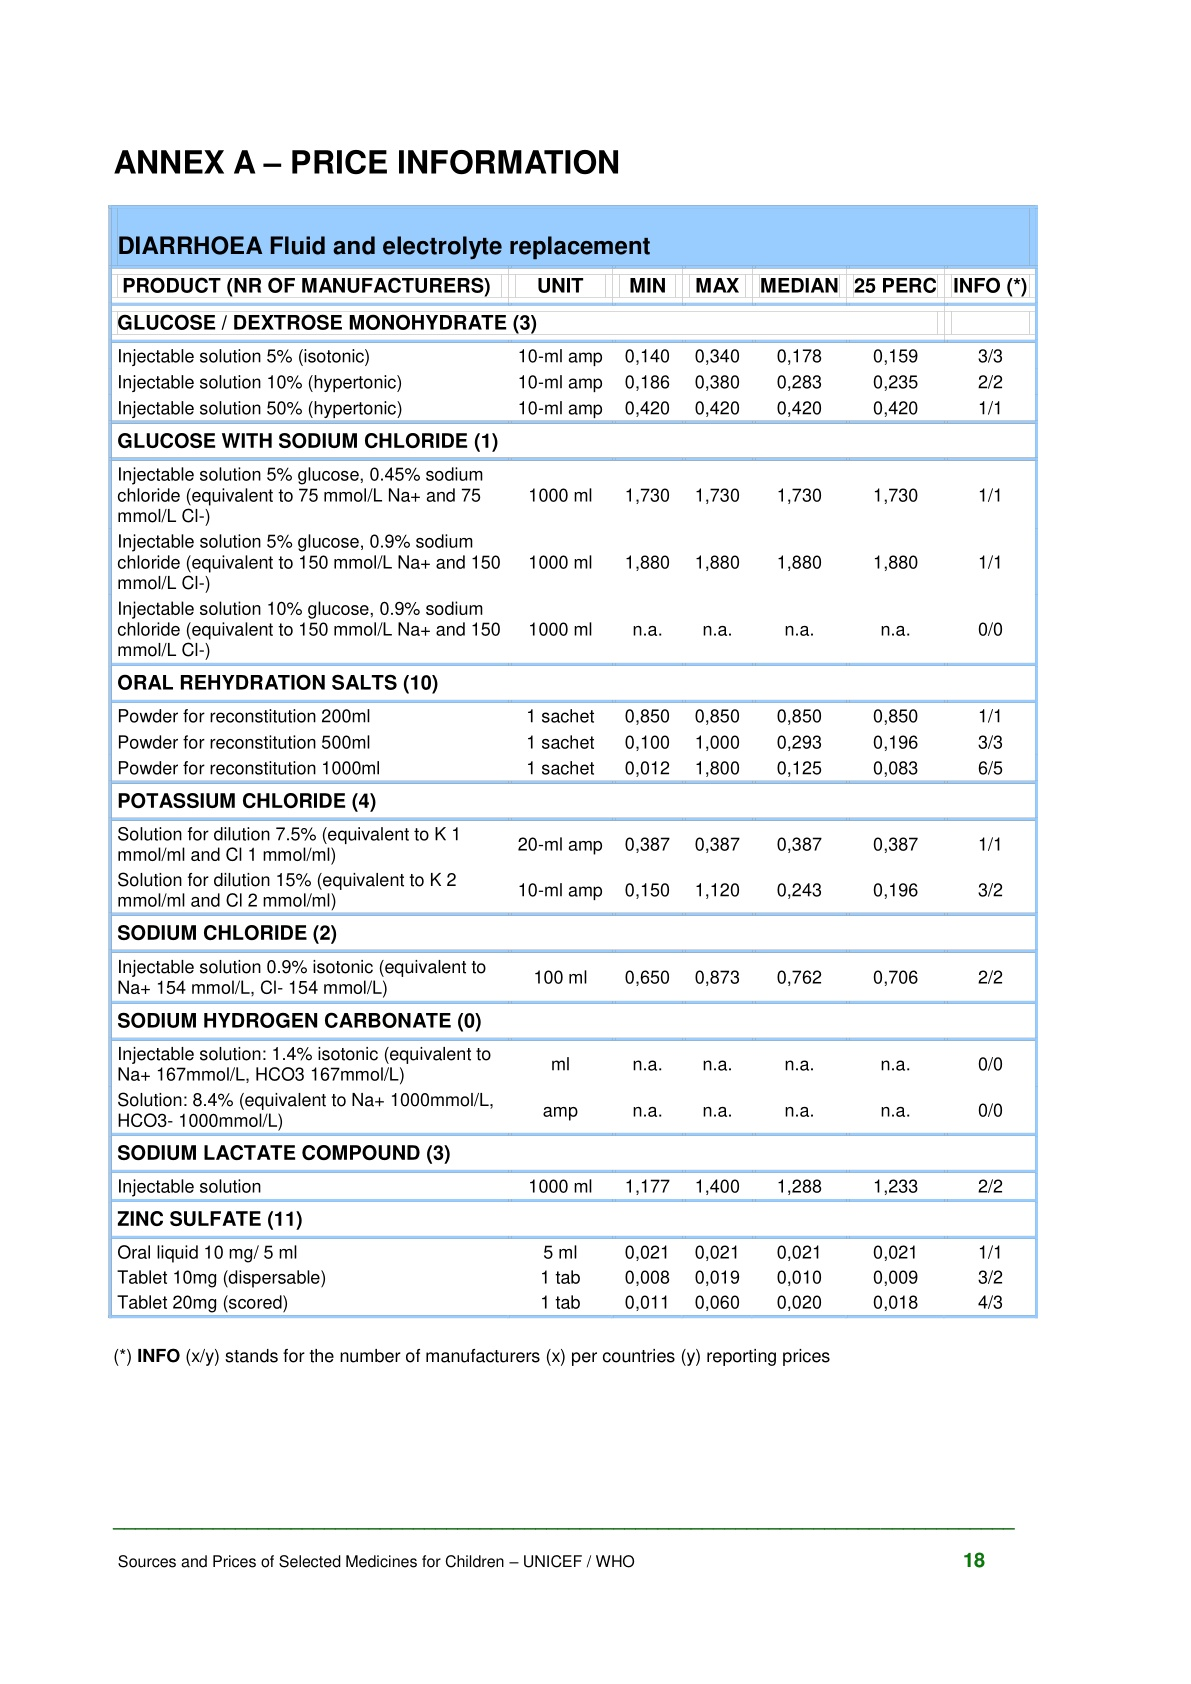partial_lined_merged_cells: (107, 204, 1038, 1319)
